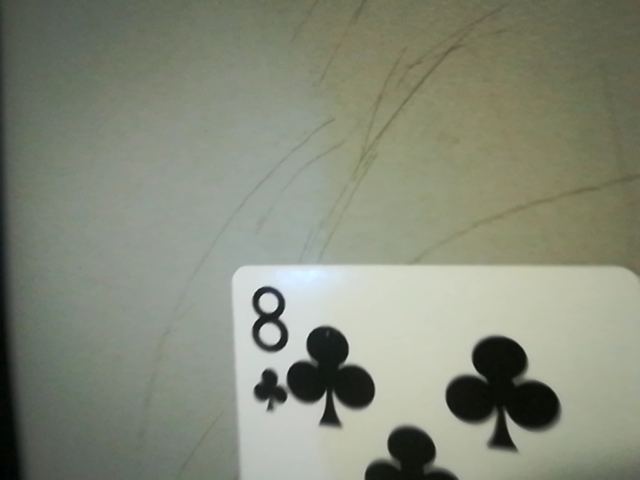mh 8: (234, 275, 298, 417)
